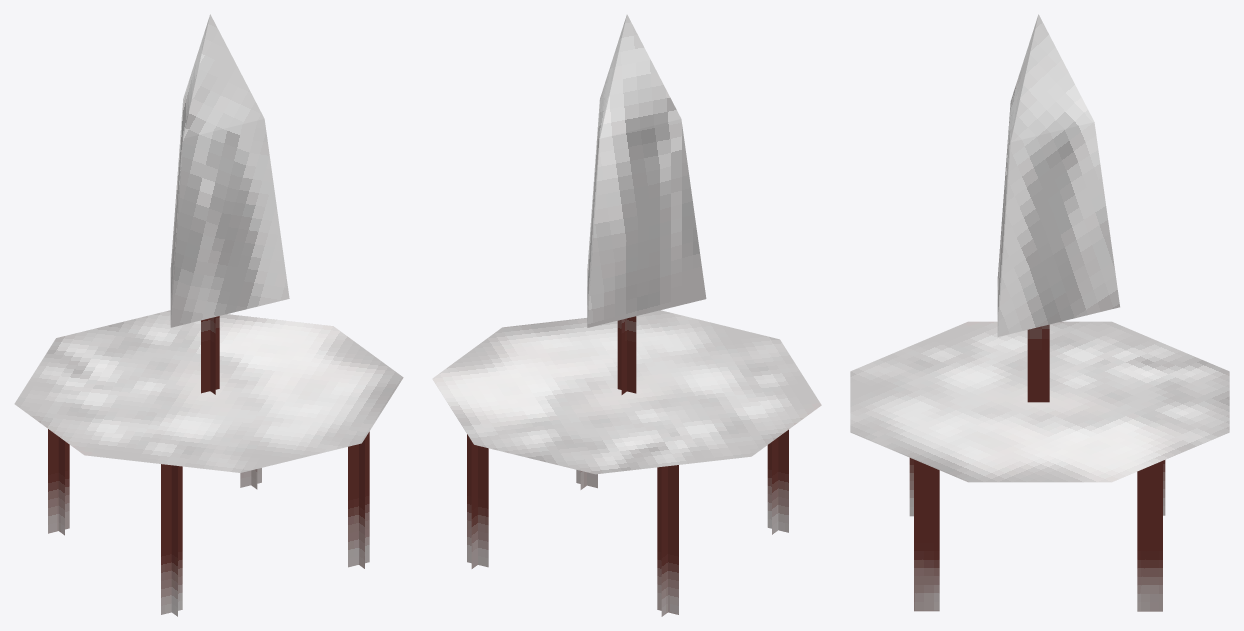
File: umbrela_table.glb
3 views of the same model, side by side, from view 1: azimuth 30°, elevation 25°; view 2: azimuth 150°, elevation 25°; view 3: azimuth 270°, elevation 25° (orthographic). The views are drawn at different scales.
Parts seen in each view (by area): view 1: Plane; view 2: Plane; view 3: Plane.
Boxes of the visible parts, left/top/right/bottom form: Plane: left=14, top=14, right=403, bottom=616; Plane: left=432, top=14, right=821, bottom=616; Plane: left=850, top=14, right=1229, bottom=611.
Bounding box in the file's own units: 0.8082 × 1.29 × 0.8082.
Materials: 1 (1 with a texture image).
